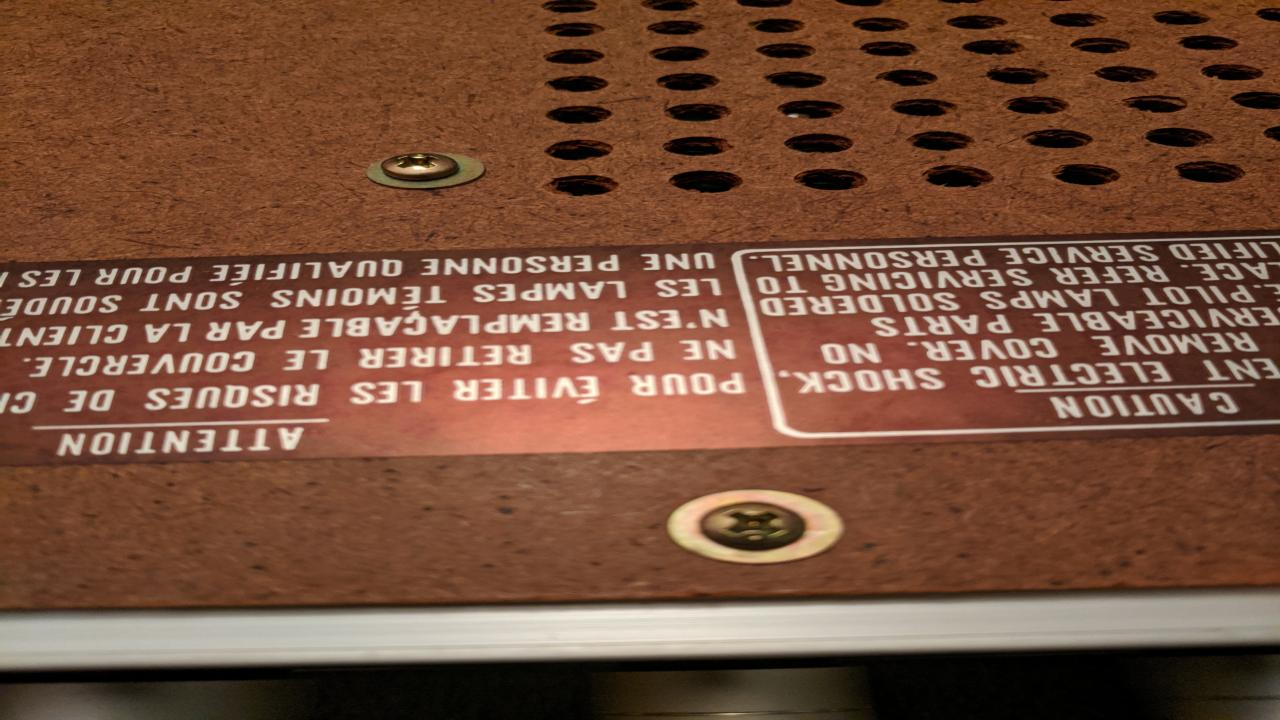CRS: (694, 500, 814, 553), (380, 152, 462, 182)
